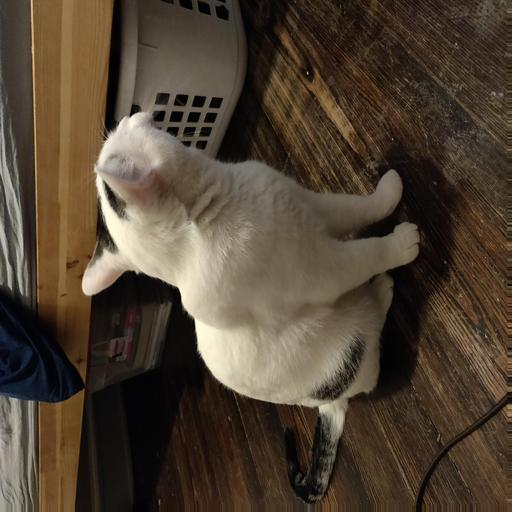cat: (72, 109, 362, 399)
